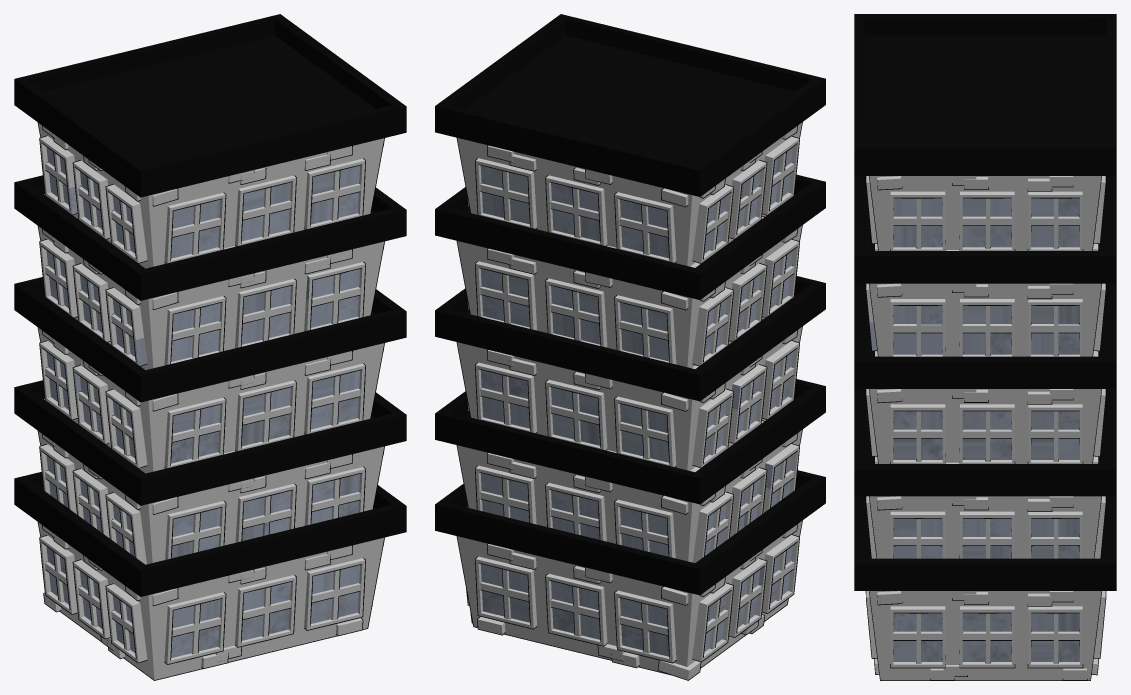
The model's file is Building4.fbx.
3 renders of one model, left to right at view 1: azimuth 30°, elevation 25°; view 2: azimuth 150°, elevation 25°; view 3: azimuth 270°, elevation 25°, orthographic. The views are drawn at different scales.
Parts seen in each view (by area): view 1: Building4; view 2: Building4; view 3: Building4.
Part boxes in pixels (bbox=[...]): Building4: bbox=[14, 14, 406, 680]; Building4: bbox=[435, 14, 825, 680]; Building4: bbox=[854, 14, 1116, 680].
Size of the model in its own units: 282 by 532 by 232.
